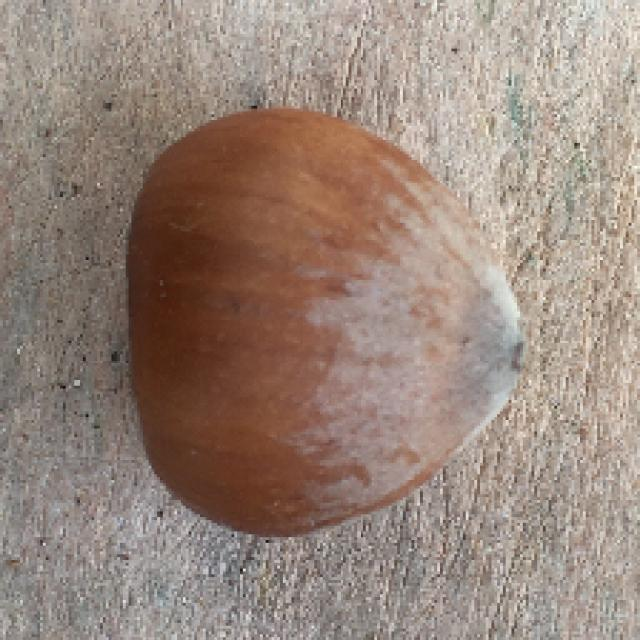qualityHazelnut: (95, 97, 538, 551)
